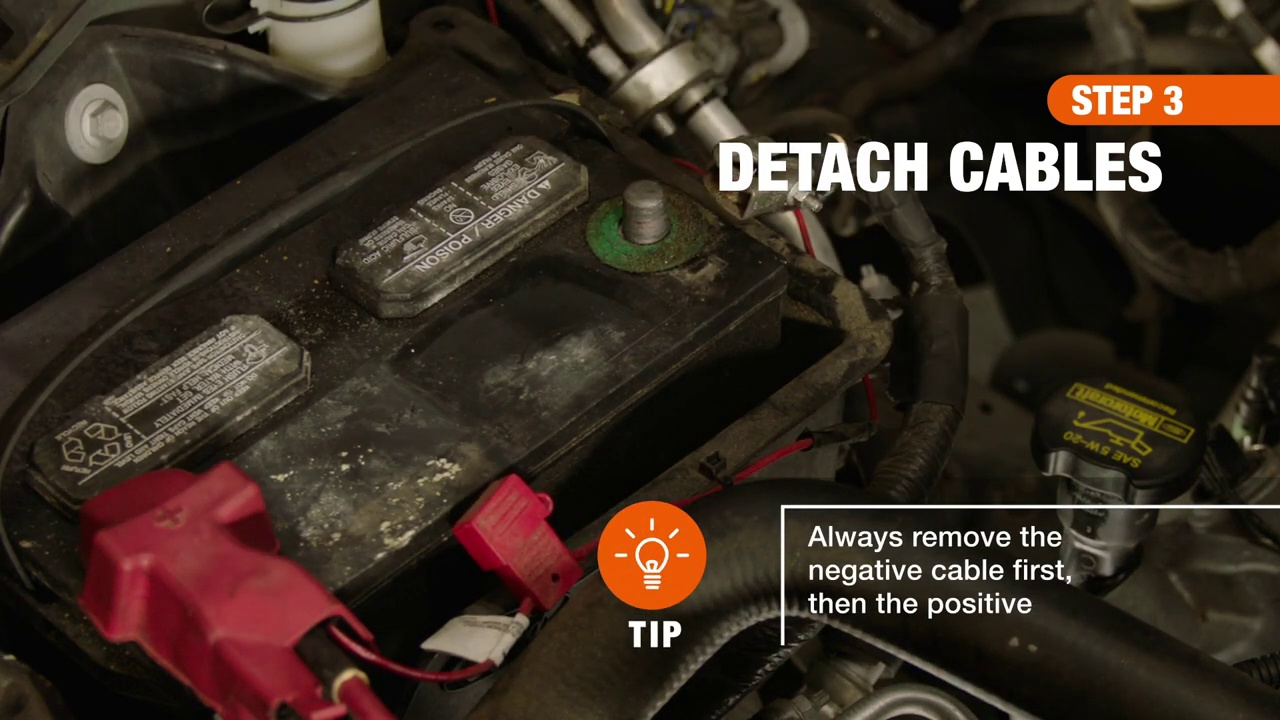battery: (28, 63, 757, 673)
neg_disconnected: (574, 175, 706, 301)
pos_connected: (75, 456, 314, 670)
